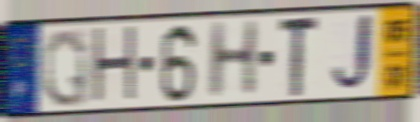6: (159, 20, 200, 104)
H: (205, 18, 262, 103), (90, 22, 139, 109)
J: (328, 11, 376, 98)
Q: (41, 26, 90, 110)
T: (277, 13, 322, 100)
